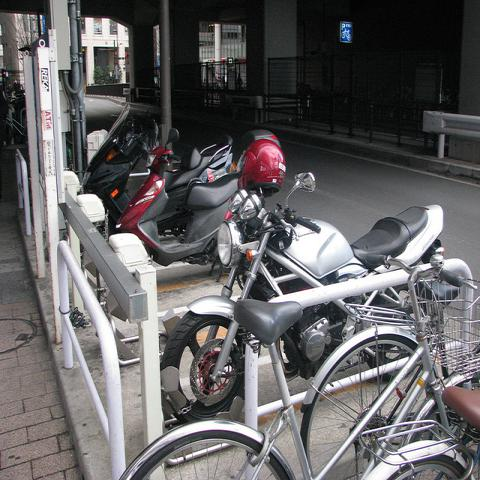motorcycle: (160, 171, 447, 419), (114, 126, 285, 266), (82, 119, 236, 237)
